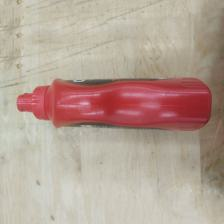Chinsu: (12, 76, 214, 132)
